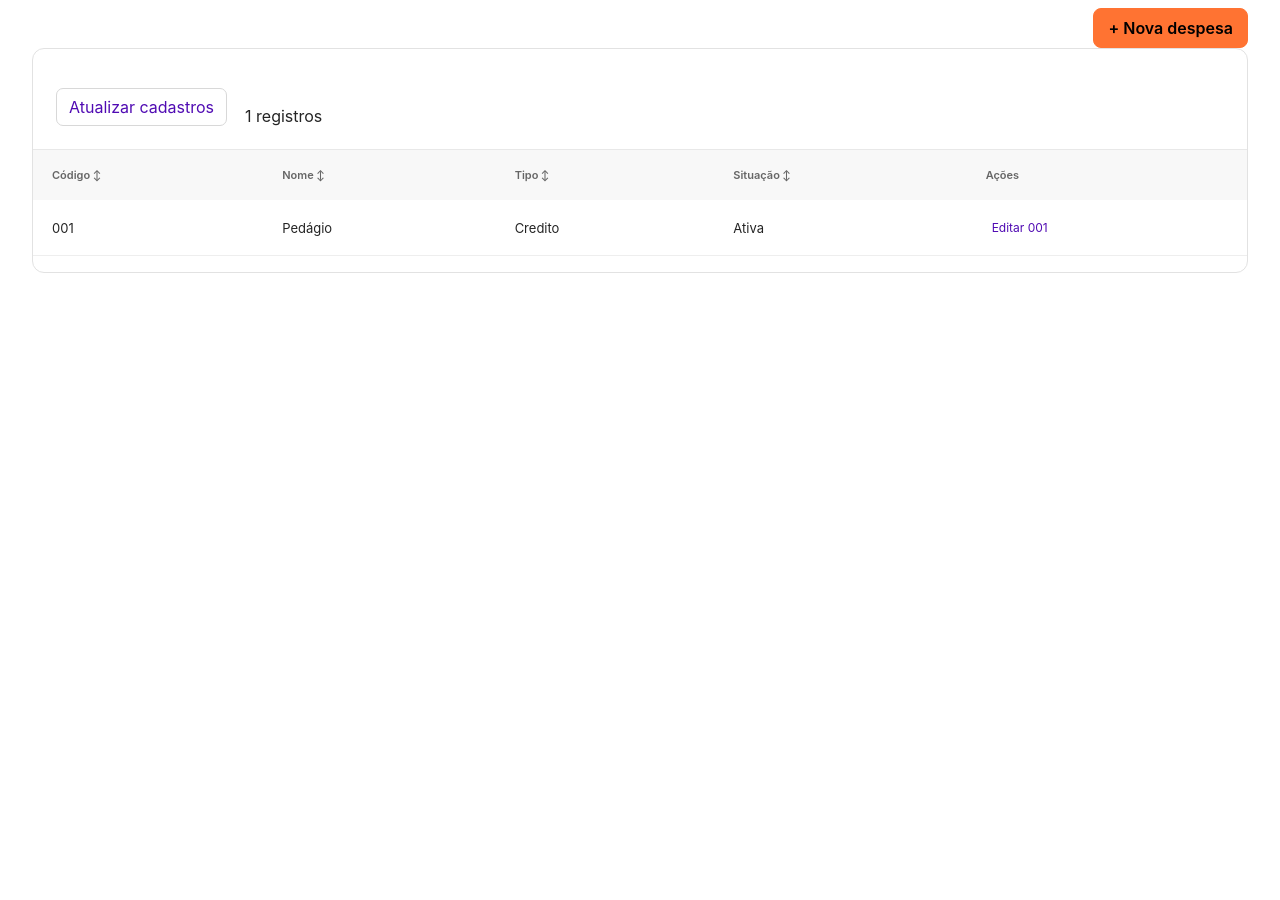
consulta despesa pelo código e mantém o tipo no grupo de opções
Expected: the button "Editar 001" is shown, [986, 219, 1054, 236]
Click the button "+ Nova despesa" at (1171, 28), box [1094, 8, 1248, 48]
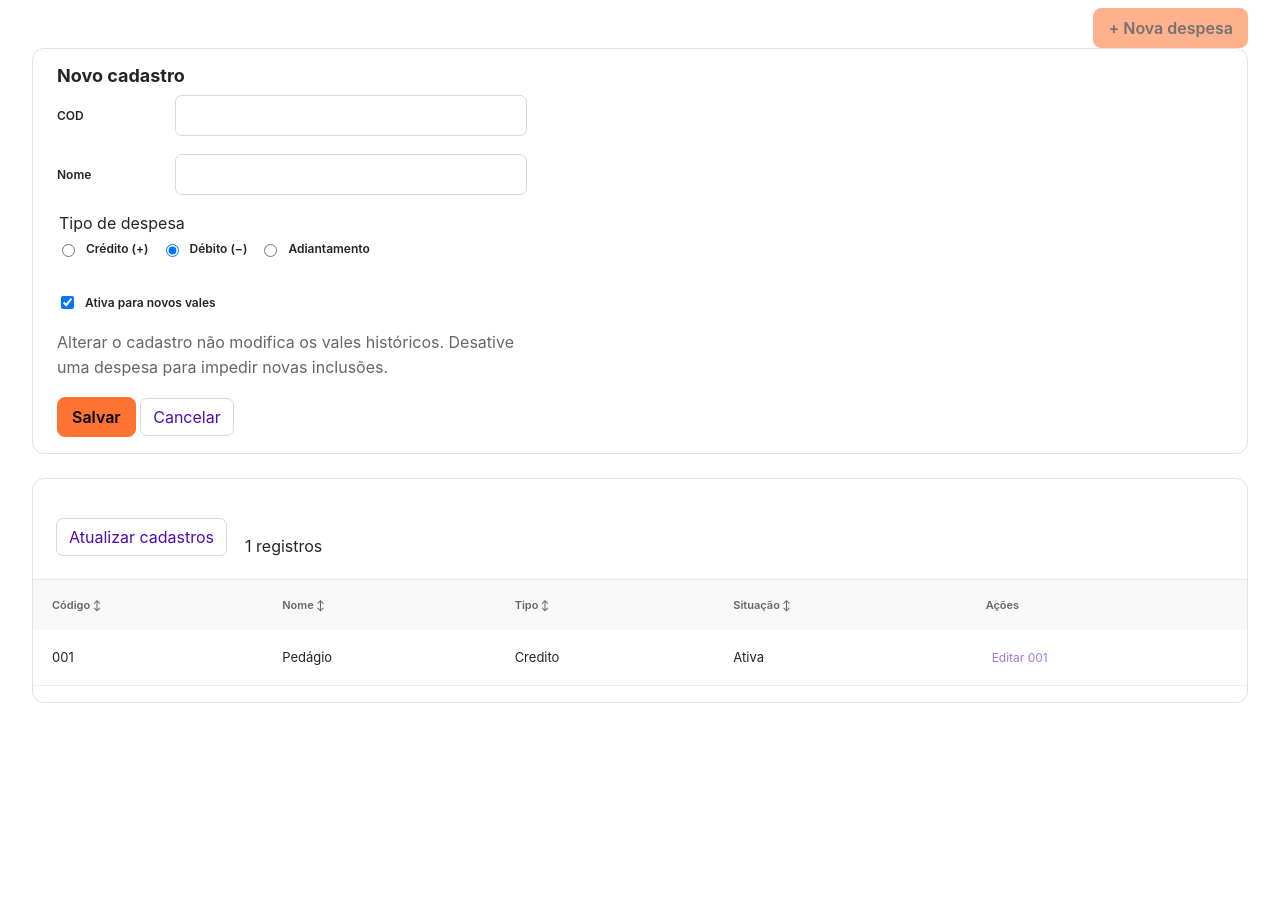
Type "001" into the field named "Código" at (351, 115), box [175, 95, 527, 136]
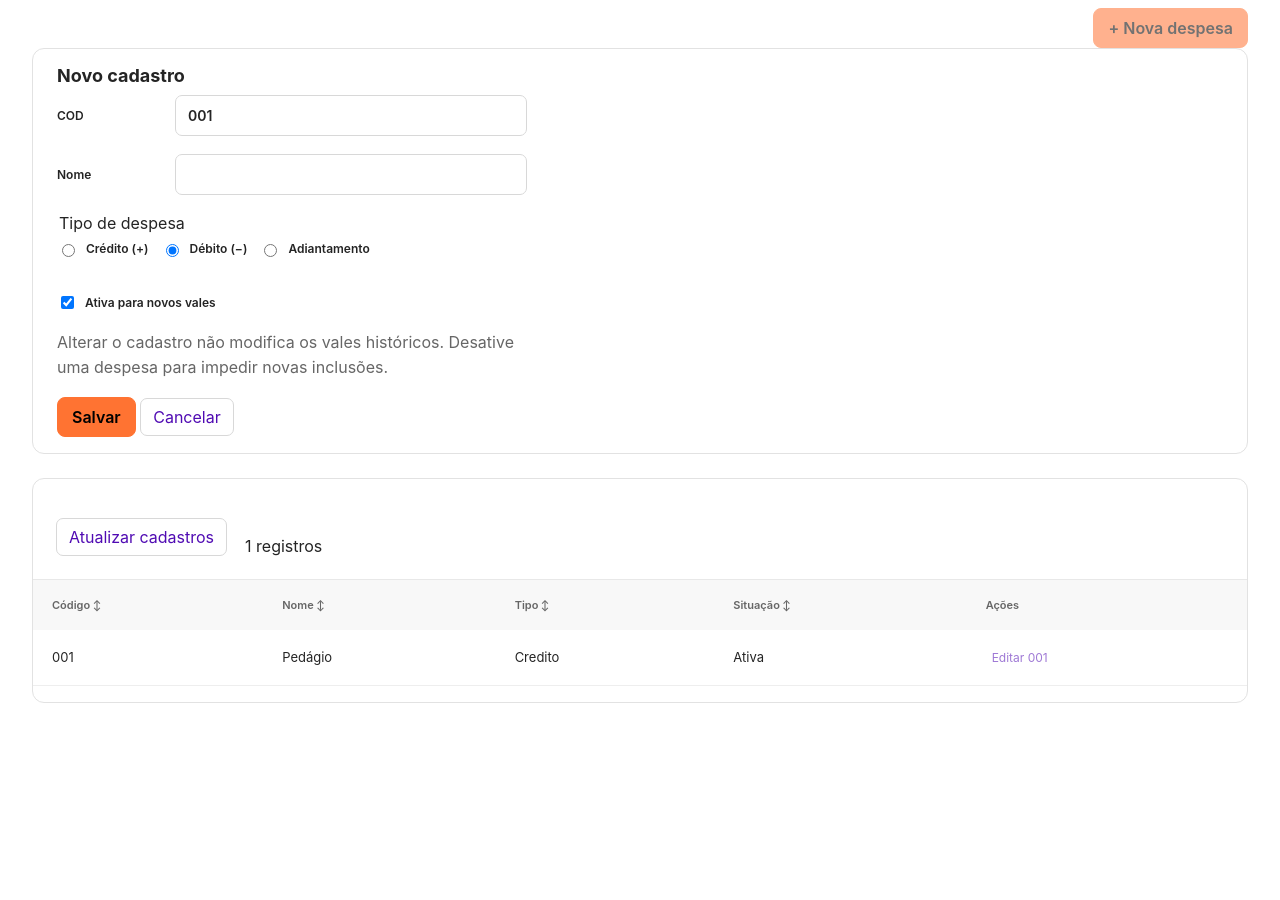
Leave the field named "Código", box [175, 95, 527, 136]
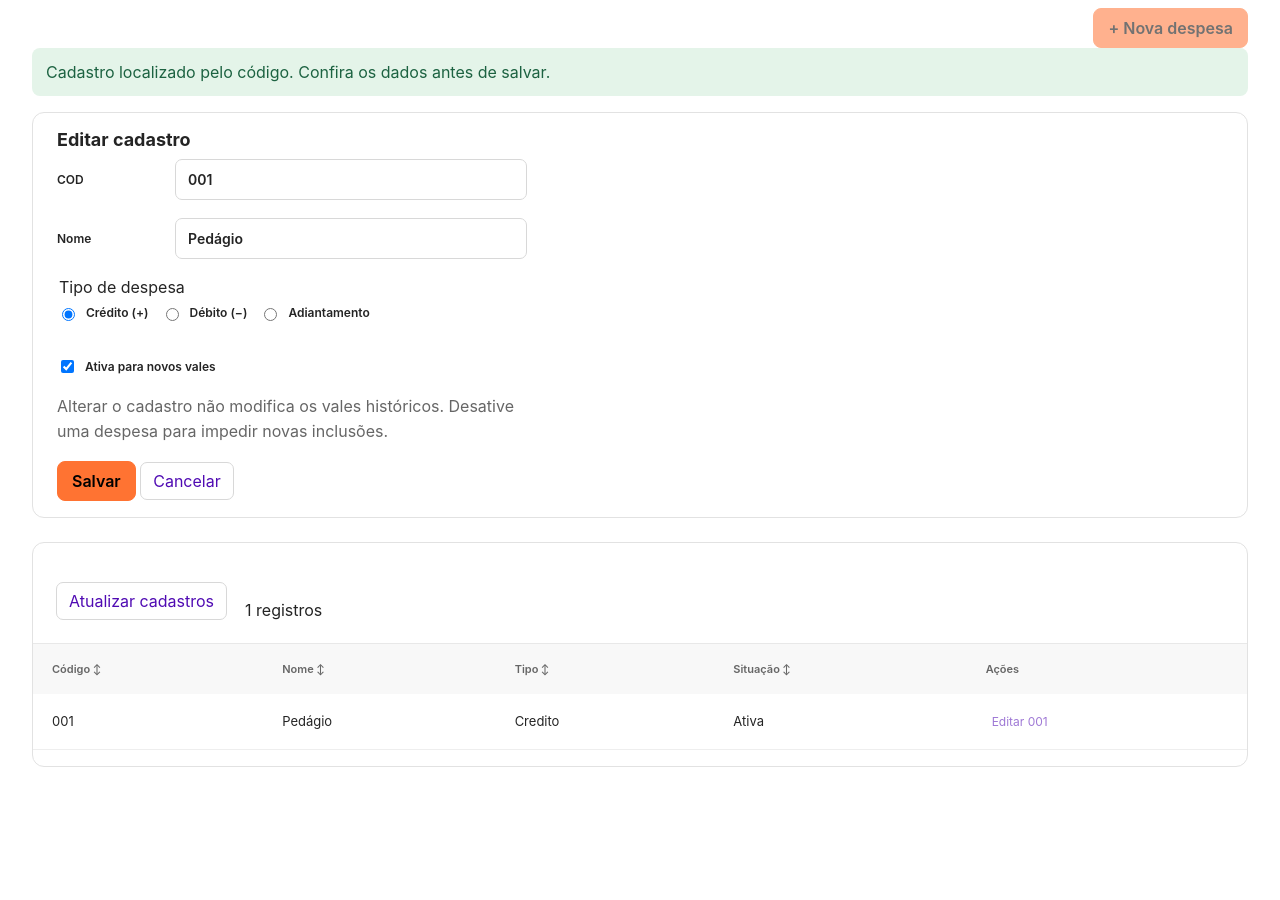
Expected: the field named "Nome da despesa" holds "Pedágio", [175, 218, 527, 259]
Expected: the radio button labelled "Crédito (+)" is checked, [62, 308, 75, 321]
Click the radio button labelled "Débito (−)" at (172, 314), box [166, 308, 178, 321]
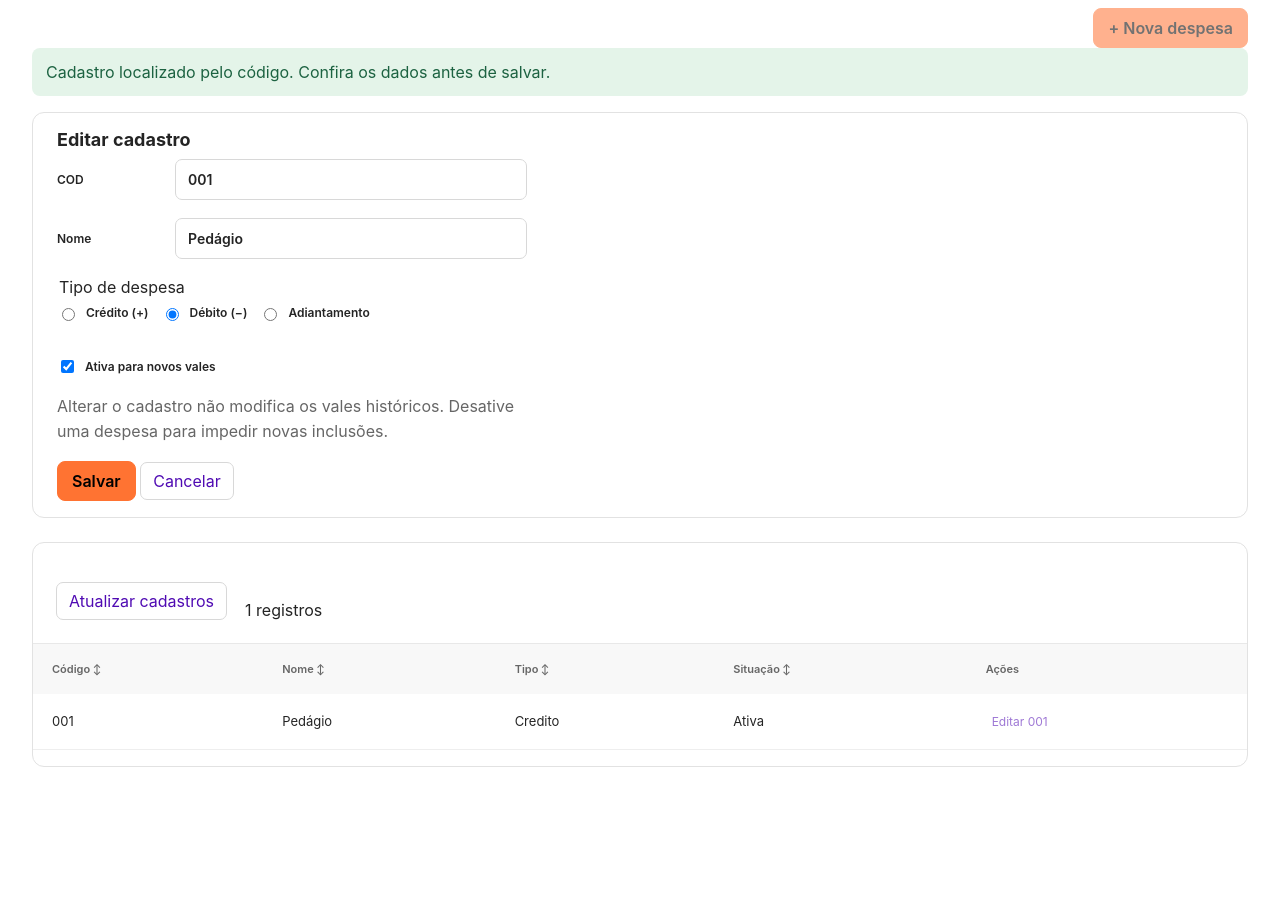
Click the button with aria-label "Salvar cadastro" at (96, 481), box [57, 461, 136, 501]
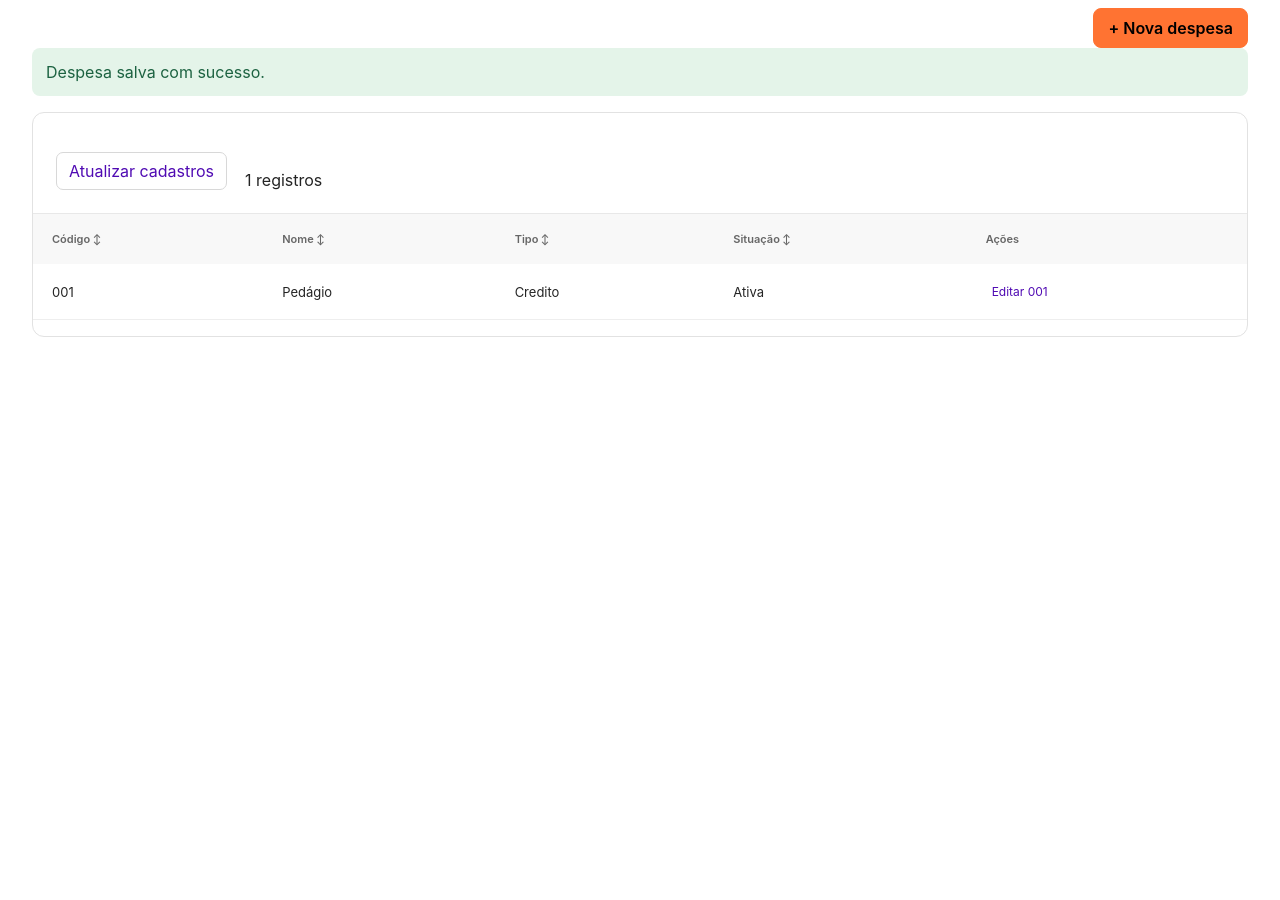
Expected: the text "Despesa salva com sucesso." is shown, [32, 48, 1248, 96]
